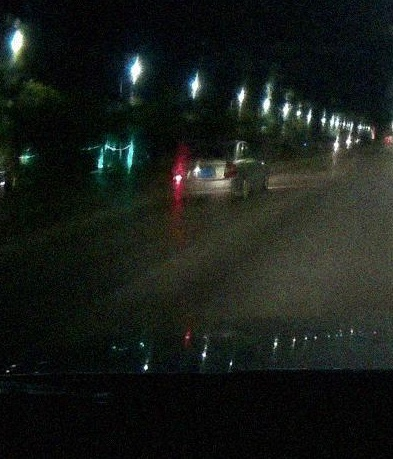L_light: (174, 167, 184, 182)
R_light: (224, 163, 236, 178)
T_light: (206, 145, 215, 148)
night-left: (173, 141, 238, 210)
